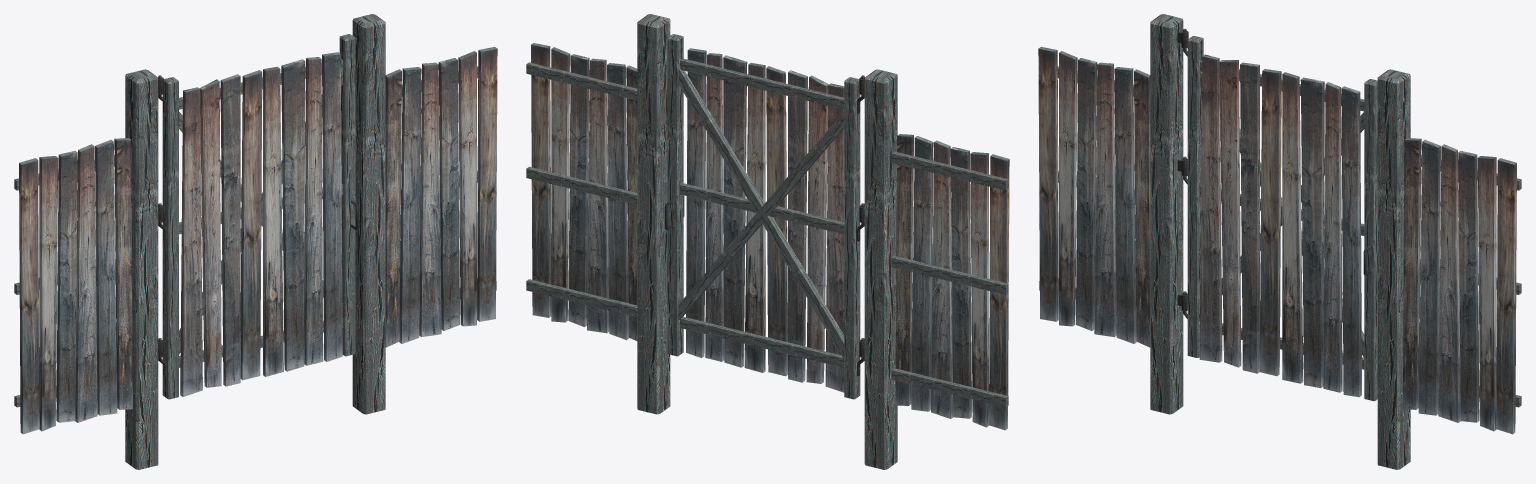
The model's file is WoodFenceBigWicket.FBX.
3 views of the same model, side by side, from view 1: azimuth 30°, elevation 25°; view 2: azimuth 150°, elevation 25°; view 3: azimuth 330°, elevation 25° (orthographic).
Visible parts, largest first — view 1: WoodFenceBigWicketPole, WoodFenceBigWicketDoor; view 2: WoodFenceBigWicketPole, WoodFenceBigWicketDoor; view 3: WoodFenceBigWicketPole, WoodFenceBigWicketDoor.
Part boxes in pixels (x1,y1,x2,y2): WoodFenceBigWicketPole: [14, 14, 497, 469]; WoodFenceBigWicketDoor: [158, 34, 357, 399]; WoodFenceBigWicketPole: [526, 14, 1009, 469]; WoodFenceBigWicketDoor: [665, 34, 864, 399]; WoodFenceBigWicketPole: [1038, 14, 1521, 469]; WoodFenceBigWicketDoor: [1183, 28, 1377, 401].
Bounding box in the file's own units: 53.07 × 41.07 × 3.46.
Materials: 1 (1 with a texture image).
